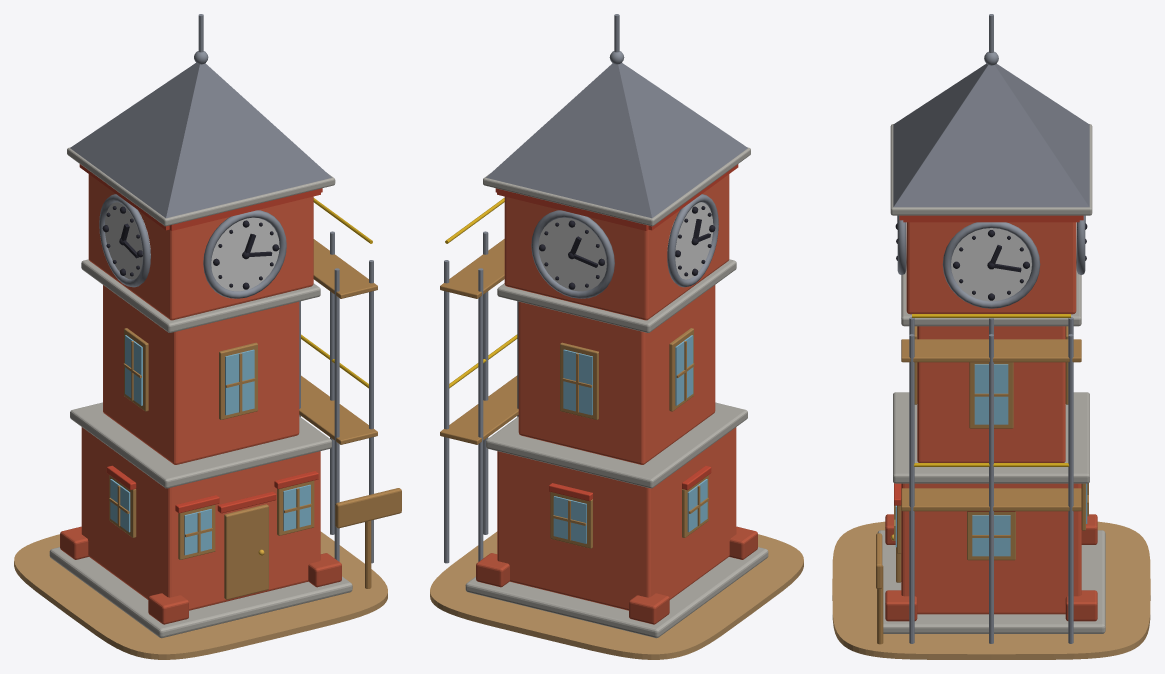
File: clock-tower-stage-3-merged.209a3003.glb
3 renders of one model, left to right at view 1: azimuth 30°, elevation 25°; view 2: azimuth 150°, elevation 25°; view 3: azimuth 270°, elevation 25°, orthographic. The views are drawn at different scales.
Parts seen in each view (by area): view 1: ClockTower_Stage3__T_vcol, ClockTower_Stage3__T_brickwall; view 2: ClockTower_Stage3__T_vcol, ClockTower_Stage3__T_brickwall; view 3: ClockTower_Stage3__T_vcol, ClockTower_Stage3__T_brickwall.
Part boxes in pixels (x1,y1,x2,y2): ClockTower_Stage3__T_vcol: [14, 14, 401, 659]; ClockTower_Stage3__T_brickwall: [81, 174, 320, 610]; ClockTower_Stage3__T_vcol: [430, 14, 803, 659]; ClockTower_Stage3__T_brickwall: [497, 174, 736, 610]; ClockTower_Stage3__T_vcol: [832, 14, 1150, 659]; ClockTower_Stage3__T_brickwall: [901, 222, 1081, 614].
Size of the model in its own units: 4.98 by 9.62 by 4.8.
